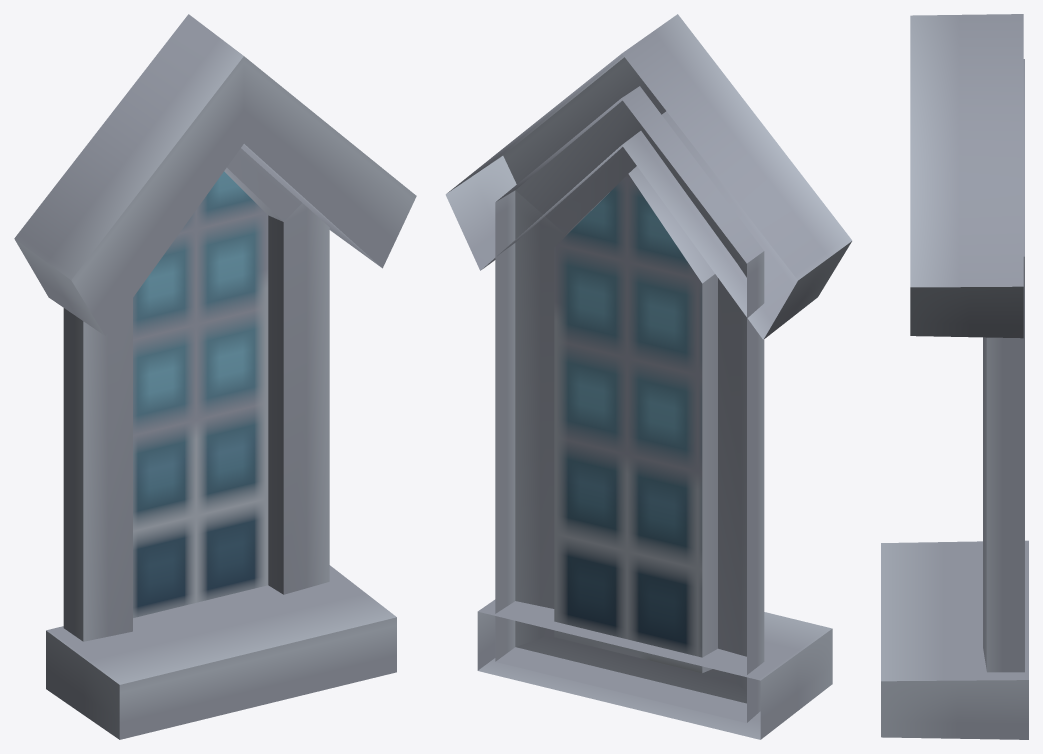
The model's file is window_curch_v2_001.fbx.
The picture shows the model from 3 angles, left to right: view 1: azimuth 30°, elevation 25°; view 2: azimuth 150°, elevation 25°; view 3: azimuth 270°, elevation 25°; orthographic projection. The views are drawn at different scales.
Parts seen in each view (by area): view 1: window_curch_v2_001; view 2: window_curch_v2_001; view 3: window_curch_v2_001.
Part boxes in pixels (x1,y1,x2,y2): window_curch_v2_001: [14, 14, 416, 739]; window_curch_v2_001: [445, 14, 852, 739]; window_curch_v2_001: [881, 14, 1028, 739].
Bounding box in the file's own units: 105 × 186 × 37.93.
